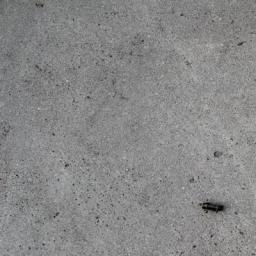FOD: (197, 198, 227, 217)
